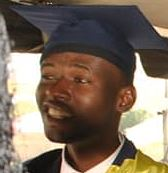without_facemask: (32, 90, 102, 146)
